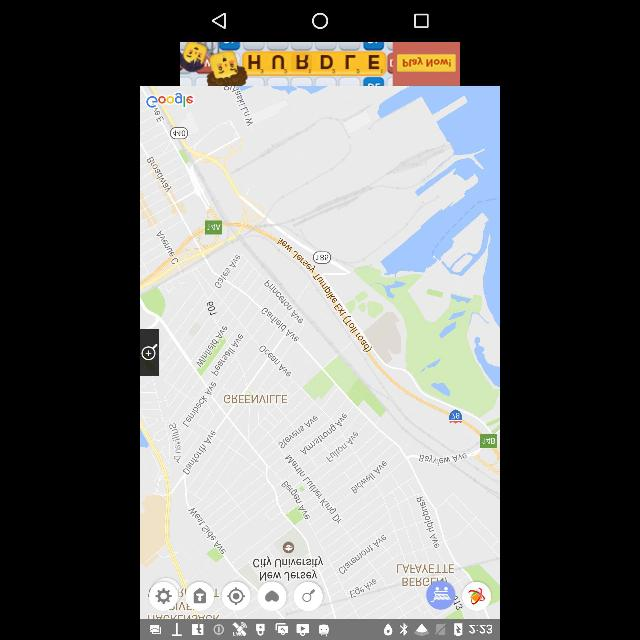icon: (462, 580, 492, 612), (295, 582, 325, 612), (148, 584, 178, 612), (222, 580, 250, 610), (186, 582, 214, 610), (258, 582, 286, 610), (426, 582, 454, 608), (312, 12, 328, 30), (210, 12, 224, 30), (414, 14, 428, 28)
iframe: (141, 43, 499, 85)
map: (140, 85, 500, 618)
panel: (140, 1, 500, 42)
uppertaskbar: (140, 618, 498, 640)
